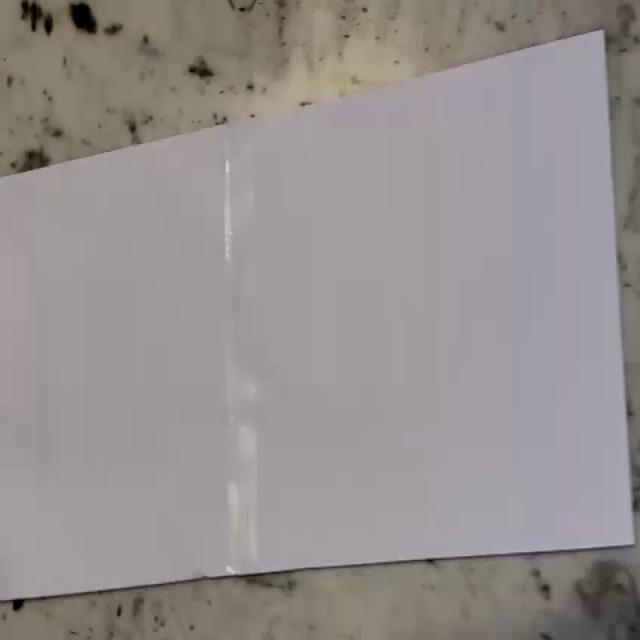road: (0, 29, 635, 601)
